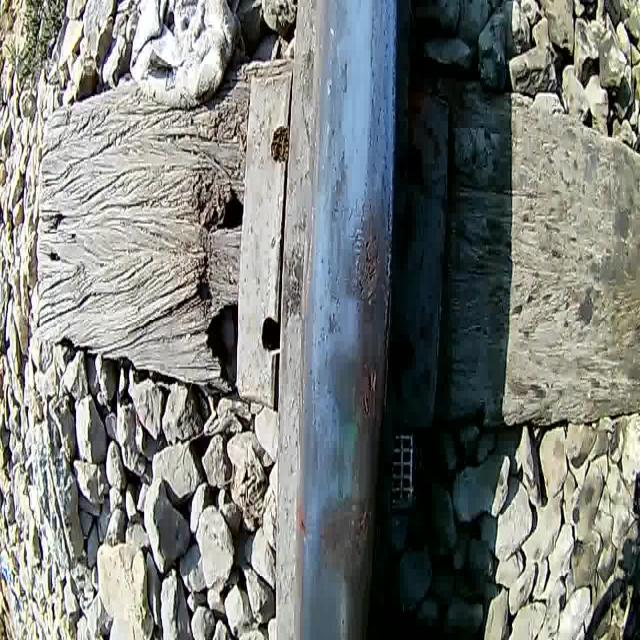Spallings: (349, 220, 383, 312), (358, 361, 382, 424), (353, 493, 374, 552)
Squats: (314, 149, 396, 335), (312, 482, 374, 596), (321, 344, 394, 438)
